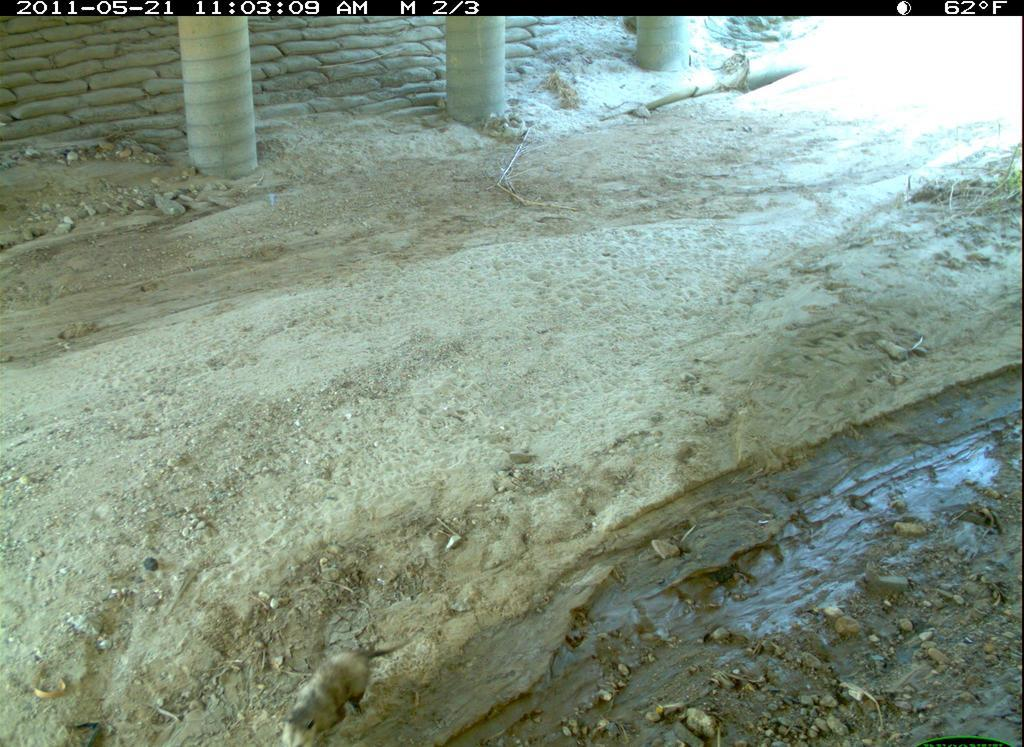opossum: (282, 626, 422, 747)
